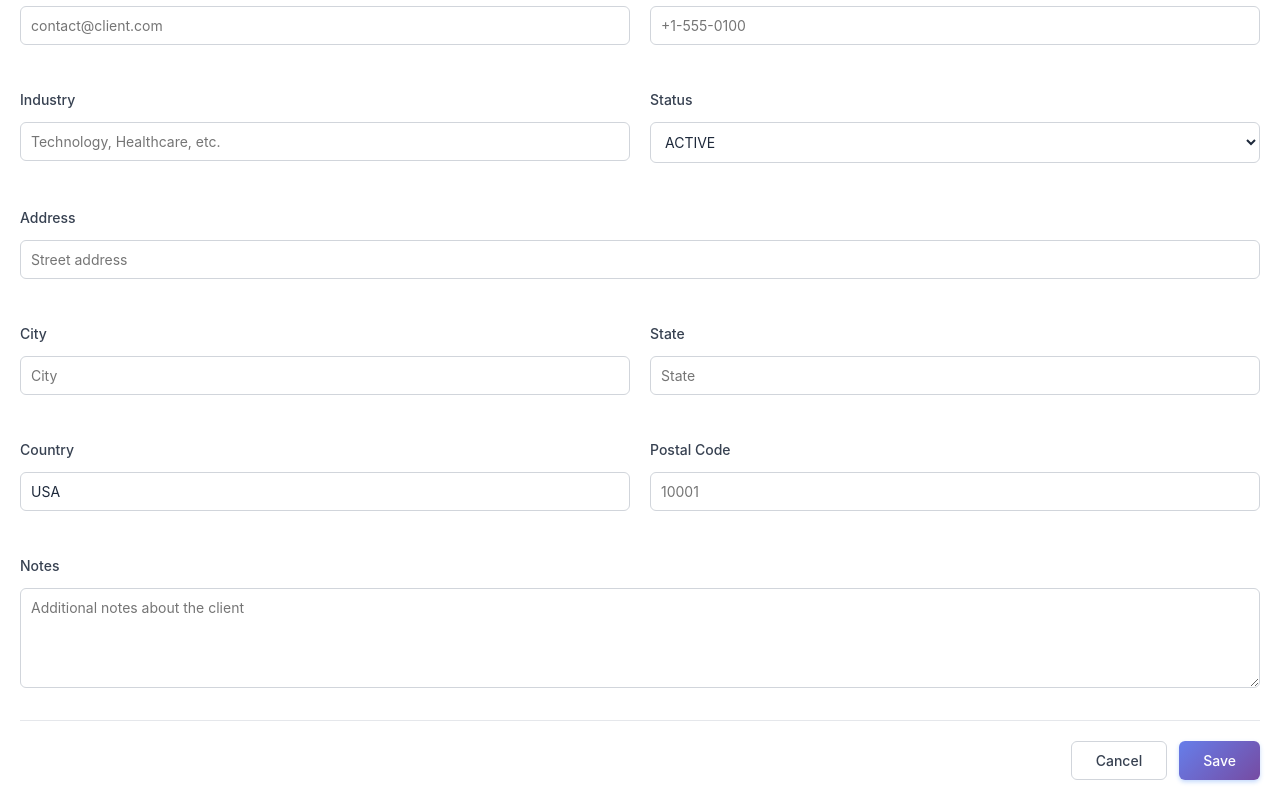
Scenario: ClientForm › shows validation error when client name is empty
(page scrolled)
Click the button "Save" at [1220, 760], box 1179,741 -> 1260,780
(page scrolled)
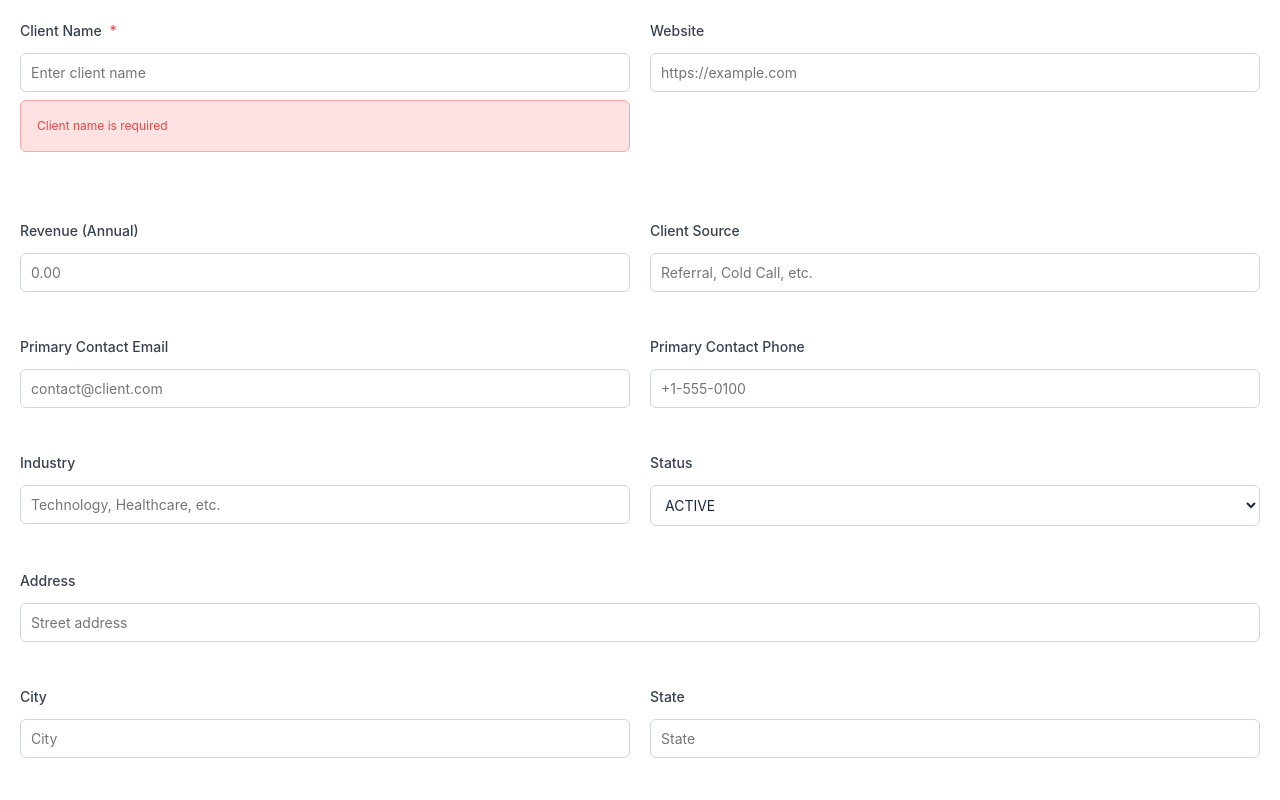
Check: the text "Client name is required" is shown, box 20,100 -> 630,152
